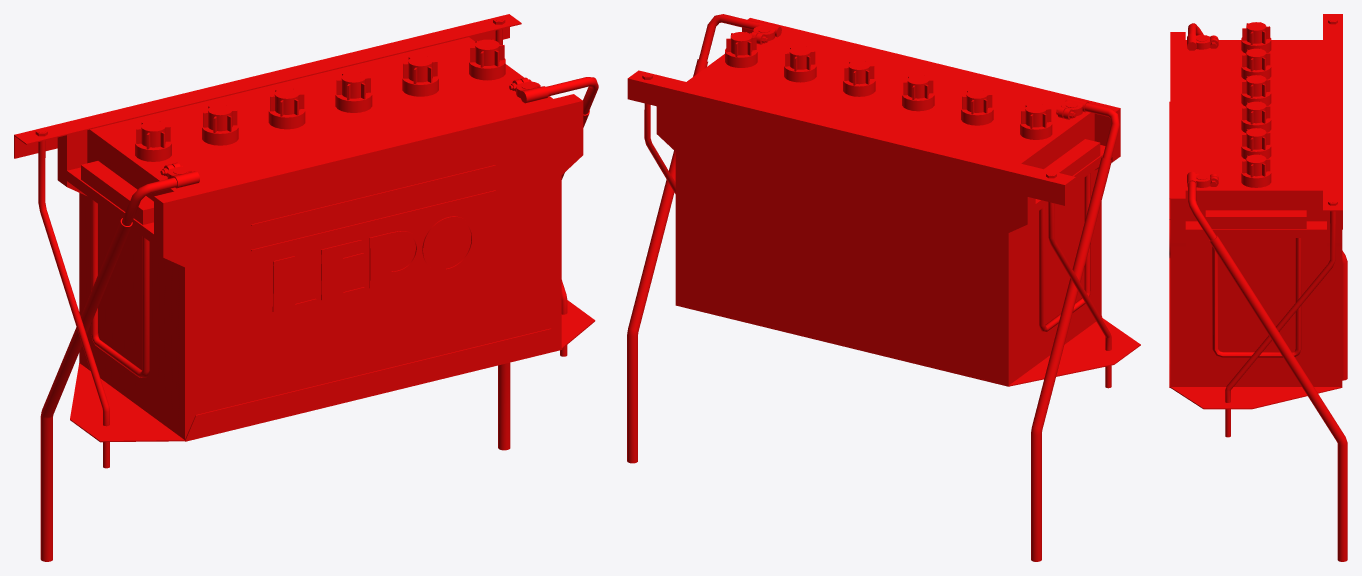
File: battery.fbx
3 renders of one model, left to right at view 1: azimuth 30°, elevation 25°; view 2: azimuth 150°, elevation 25°; view 3: azimuth 270°, elevation 25°, orthographic. The views are drawn at different scales.
Visible parts, largest first — view 1: Box160, Box161, TextPlus001, Cylinder419; view 2: Box160, Box161, Cylinder419; view 3: Box161, Box160, Cylinder419, TextPlus001.
Part boxes in pixels (x1,y1,x2,y2): Box160: (57,123,583,439); Box161: (14,14,598,561); TextPlus001: (251,165,495,311); Cylinder419: (81,161,153,377); Box160: (656,106,1120,385); Box161: (627,14,1140,561); Cylinder419: (1039,139,1100,331); Box161: (1169,14,1347,561); Box160: (1170,209,1342,386); Cylinder419: (1205,210,1306,357); TextPlus001: (1169,101,1170,258).
Size of the model in its own units: 18.11 by 16.04 by 6.94.
